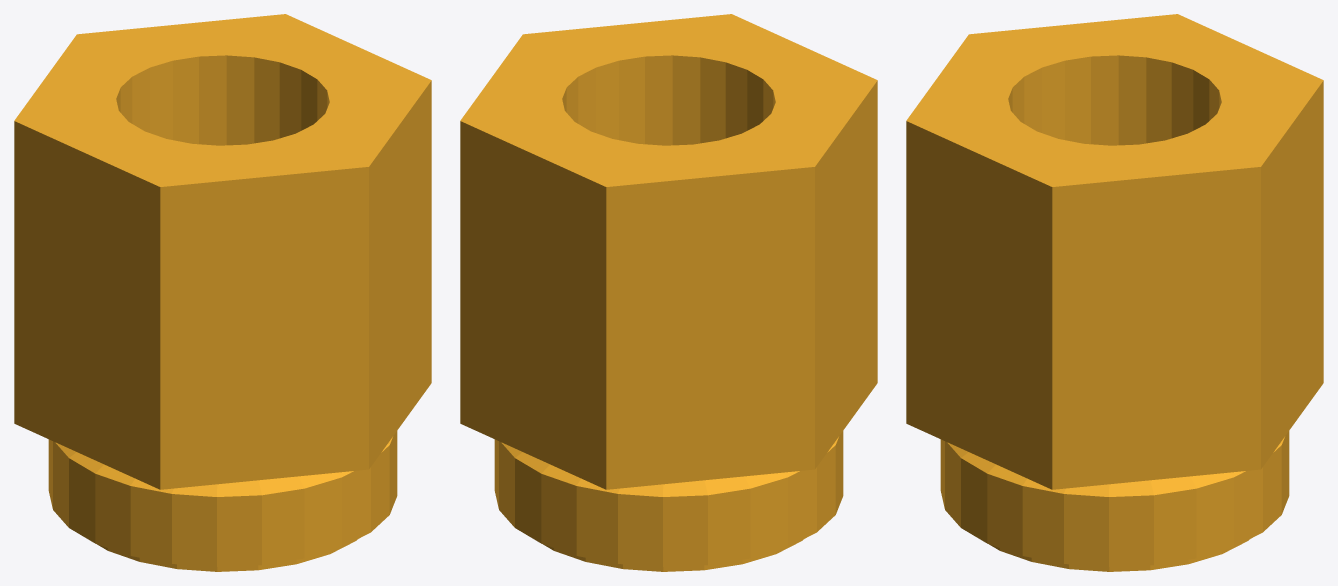
The model's file is kria_kv_260_JSOM_B_XX_XX_XX_1_SOLID1_1_JSOM_B_XX_XX_XX_1_SOLID1_1.obj.
3 views of the same model, side by side, from view 1: azimuth 30°, elevation 25°; view 2: azimuth 150°, elevation 25°; view 3: azimuth 270°, elevation 25° (orthographic).
Bounding box in the file's own units: 0.00552 × 0.00602 × 0.00563.
